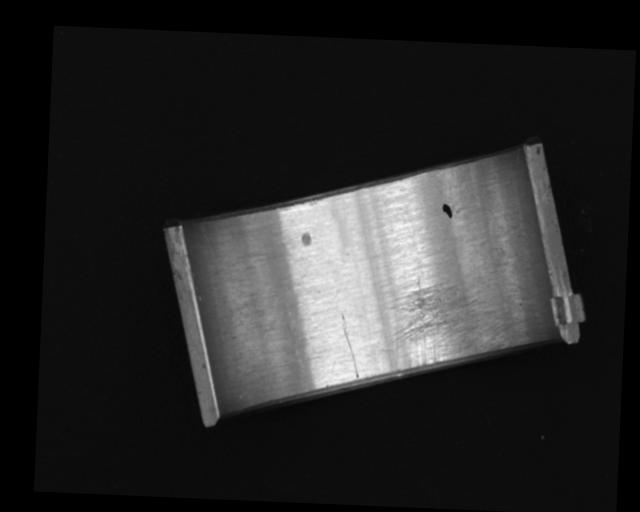blot: (441, 203, 453, 220)
bruise: (300, 232, 312, 246)
nick: (197, 222, 247, 315), (338, 313, 362, 379)
scratch: (384, 278, 510, 378)
